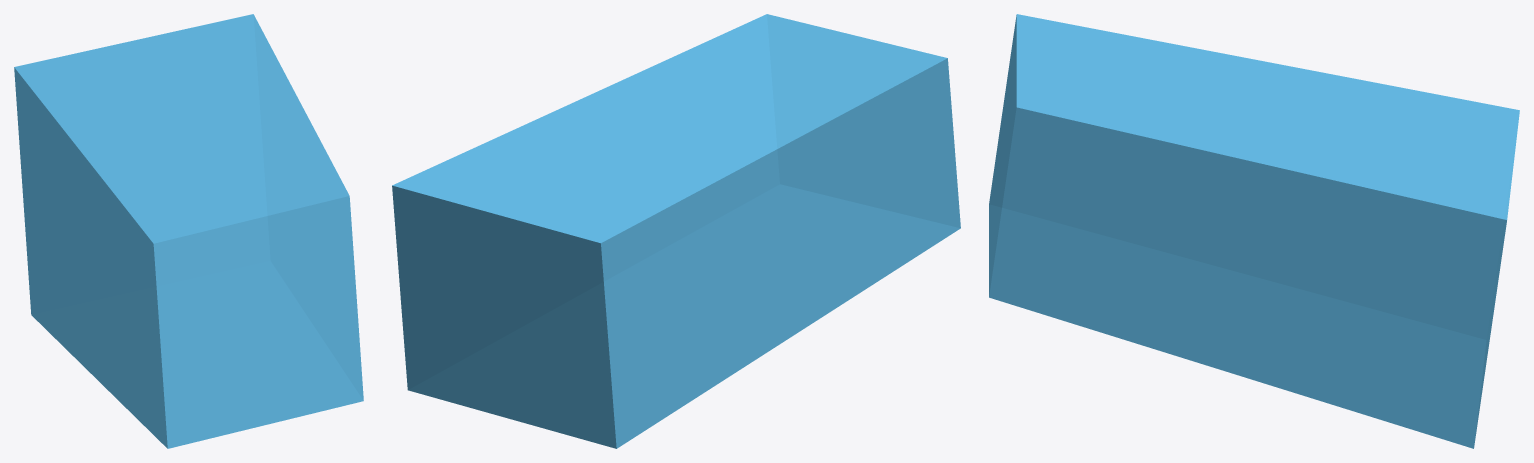
Rendered from Event_421127236_HBrechit_23.fbx.
3 renders of one model, left to right at view 1: azimuth 30°, elevation 25°; view 2: azimuth 150°, elevation 25°; view 3: azimuth 270°, elevation 25°, orthographic. The views are drawn at different scales.
Parts seen in each view (by area): view 1: Model; view 2: Model; view 3: Model.
Boxes of the visible parts, bbox=[...] form: Model: bbox=[14, 14, 363, 448]; Model: bbox=[392, 14, 960, 448]; Model: bbox=[989, 14, 1519, 448].
Size of the model in its own units: 0.7512 by 0.5647 by 1.01.
